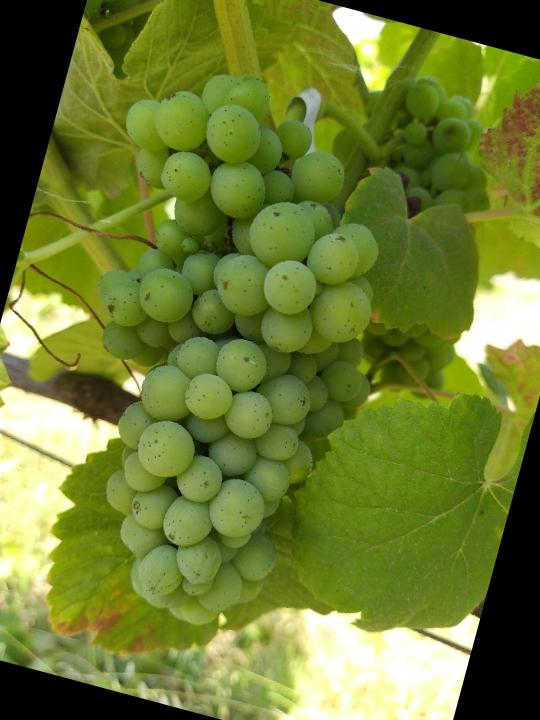grape: (2, 41, 448, 658)
